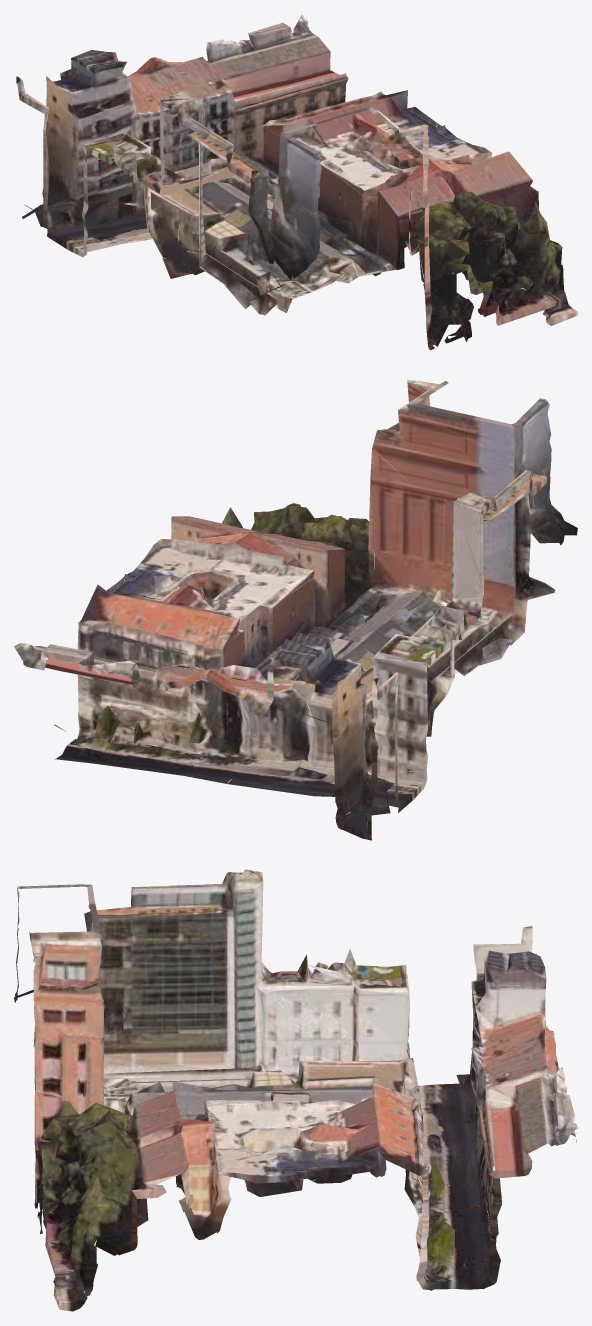
3 renders of one model, top to bottom at view 1: azimuth 30°, elevation 25°; view 2: azimuth 150°, elevation 25°; view 3: azimuth 270°, elevation 25°, orthographic. The views are drawn at different scales.
Parts seen in each view (by area): view 1: Mesh_0; view 2: Mesh_0; view 3: Mesh_0.
Boxes of the visible parts, left/top/right/bottom form: Mesh_0: left=16, top=14, right=577, bottom=350; Mesh_0: left=14, top=380, right=577, bottom=840; Mesh_0: left=14, top=869, right=577, bottom=1311.
Size of the model in its own units: 66.89 by 44.22 by 82.44.
1 material, 1 textured.
